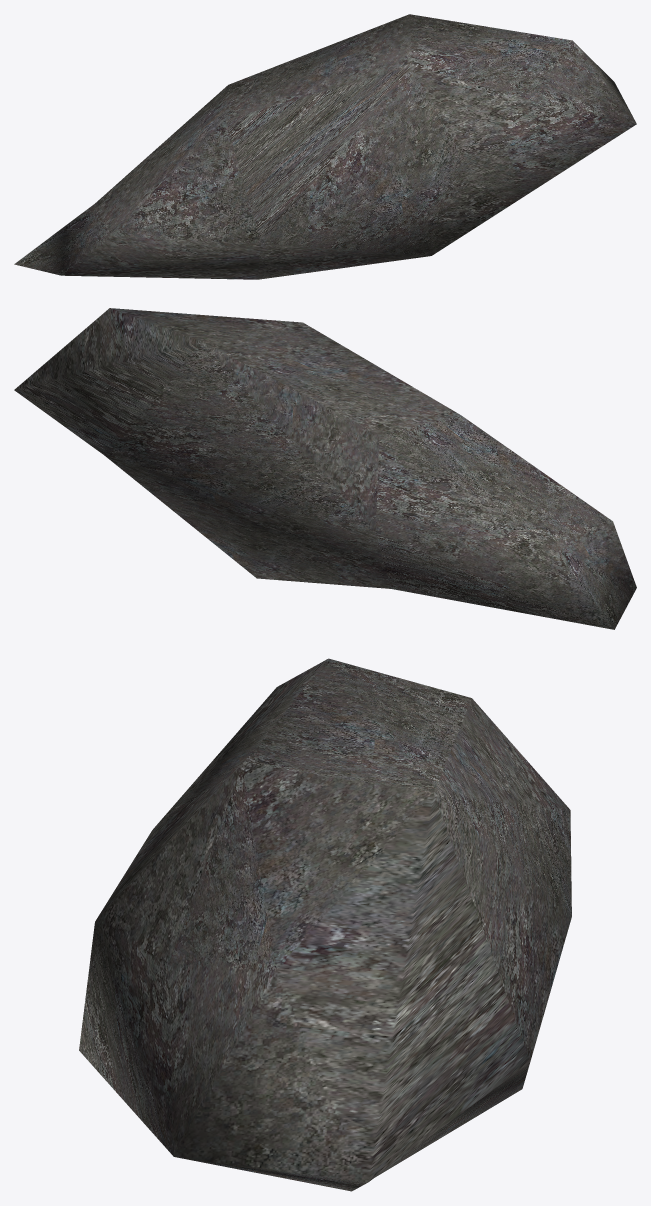
Rendered from rock_forestriverrock_sm_a1_l1.fbx.
The picture shows the model from 3 angles, top to bottom: view 1: azimuth 30°, elevation 25°; view 2: azimuth 150°, elevation 25°; view 3: azimuth 270°, elevation 25°; orthographic projection. The views are drawn at different scales.
Parts seen in each view (by area): view 1: mesh_node; view 2: mesh_node; view 3: mesh_node.
Boxes of the visible parts, left/top/right/bottom form: mesh_node: left=14, top=14, right=636, bottom=279; mesh_node: left=14, top=308, right=636, bottom=629; mesh_node: left=79, top=658, right=571, bottom=1191.
Bounding box in the file's own units: 0.9347 × 0.2968 × 0.3469.
Materials: 1 (1 with a texture image).
